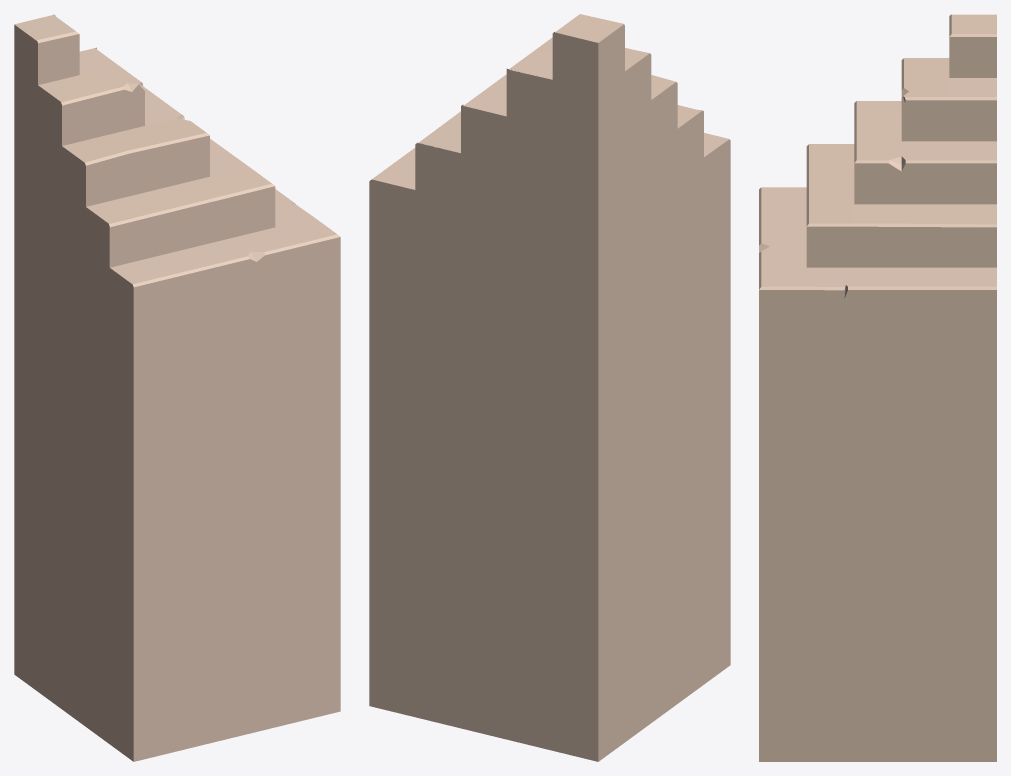
The model's file is greek_stairs_stone_corner.fbx.
3 renders of one model, left to right at view 1: azimuth 30°, elevation 25°; view 2: azimuth 150°, elevation 25°; view 3: azimuth 270°, elevation 25°, orthographic. The views are drawn at different scales.
Parts seen in each view (by area): view 1: Cube.007; view 2: Cube.007; view 3: Cube.007.
Part boxes in pixels (box(x1,y1,x2,y2)): Cube.007: box(14, 14, 340, 761); Cube.007: box(369, 14, 730, 761); Cube.007: box(759, 14, 996, 761).
Size of the model in its own units: 100 by 300 by 100.
